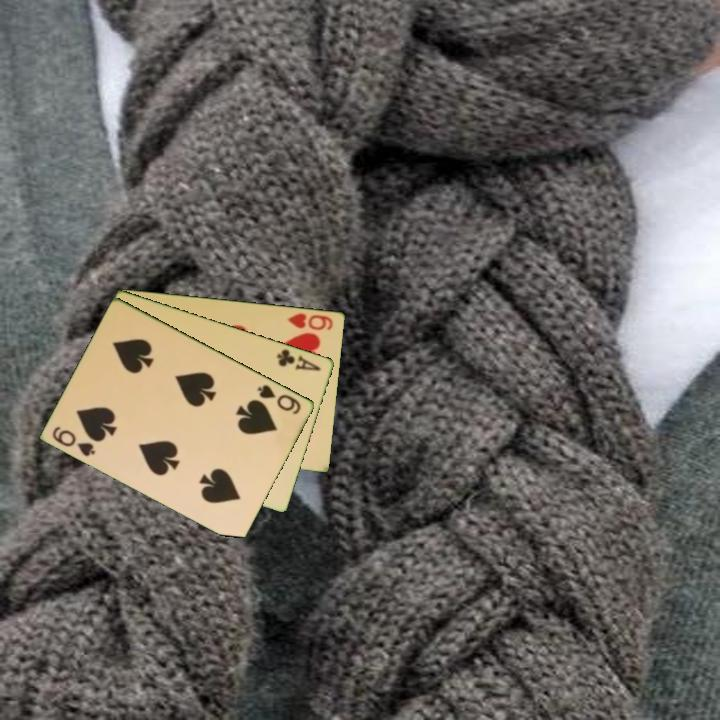6h: (284, 309, 336, 333)
6s: (254, 380, 304, 417), (49, 423, 98, 459)
Ac: (273, 345, 324, 374)
